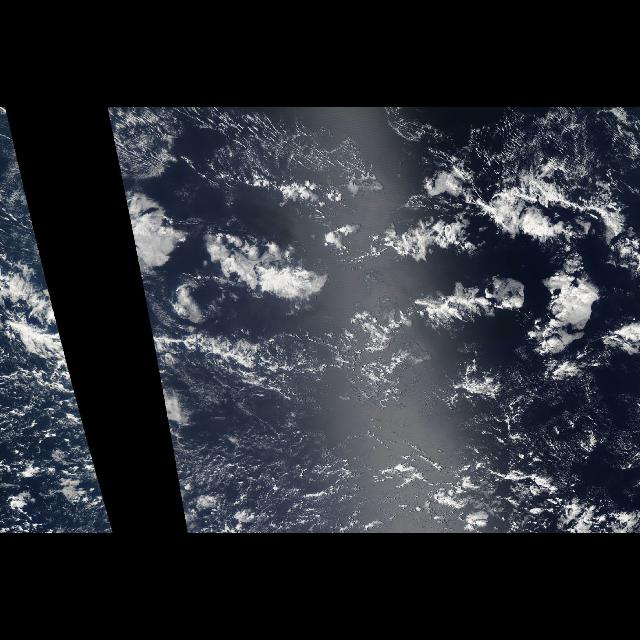Fish: (144, 308, 350, 412), (0, 308, 82, 412)
Flower: (384, 164, 640, 418)
Sugar: (158, 304, 550, 532), (107, 108, 369, 192)
